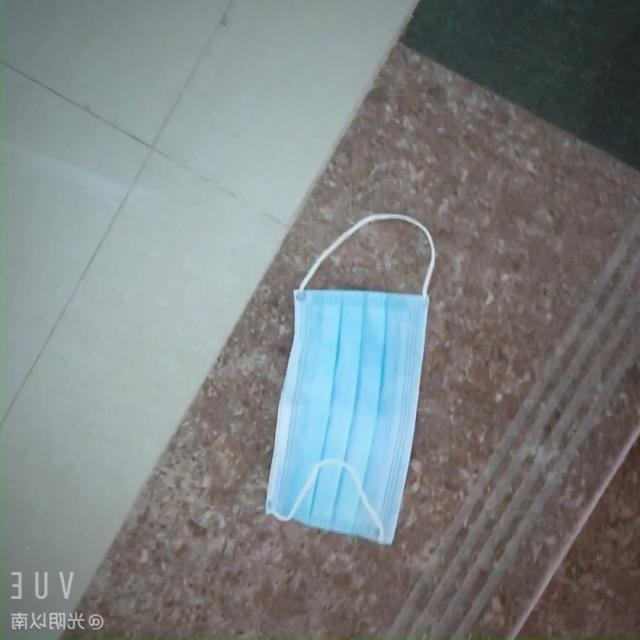face mask: (272, 282, 439, 538)
